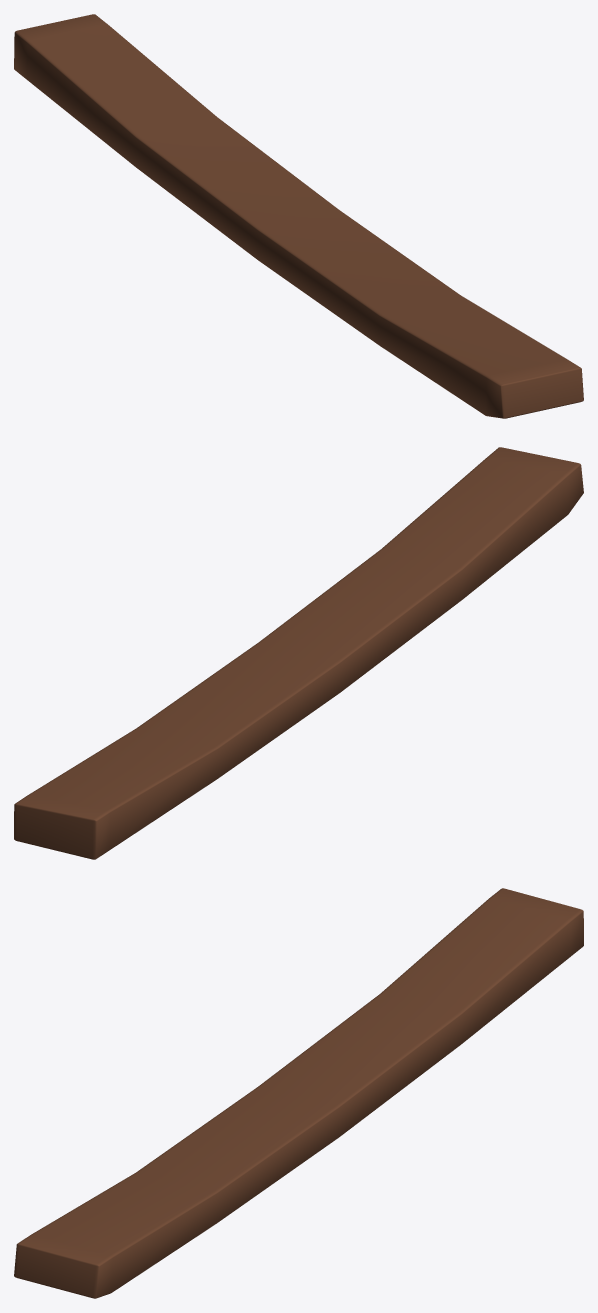
File: Plank.fbx
3 renders of one model, top to bottom at view 1: azimuth 30°, elevation 25°; view 2: azimuth 150°, elevation 25°; view 3: azimuth 330°, elevation 25°, orthographic.
Parts seen in each view (by area): view 1: Cylinder.002; view 2: Cylinder.002; view 3: Cylinder.002.
Part boxes in pixels (x1,y1,x2,y2): Cylinder.002: [14, 14, 583, 418]; Cylinder.002: [14, 447, 583, 859]; Cylinder.002: [14, 888, 583, 1298].
Size of the model in its own units: 42.86 by 25.68 by 435.
